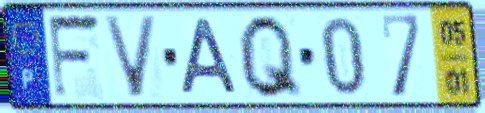0: (317, 15, 369, 98)
7: (380, 12, 422, 100)
A: (179, 16, 242, 98)
F: (45, 11, 105, 103)
Q: (236, 11, 306, 102)
V: (100, 14, 161, 101)
